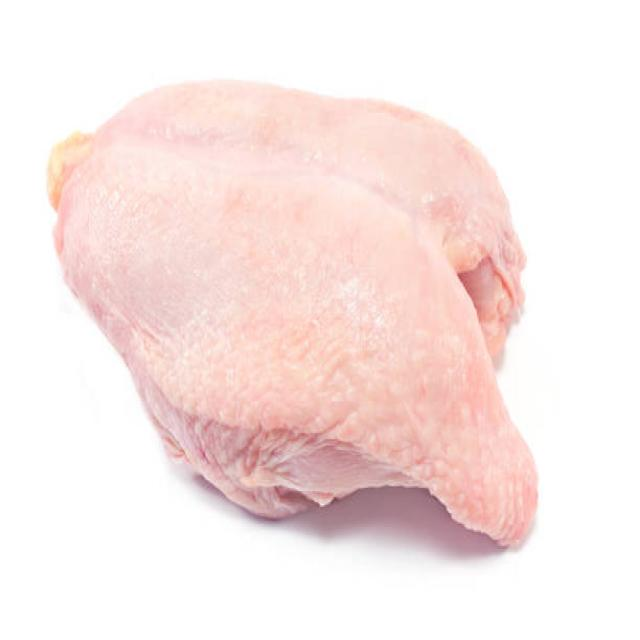chicken breast: (34, 54, 562, 561)
